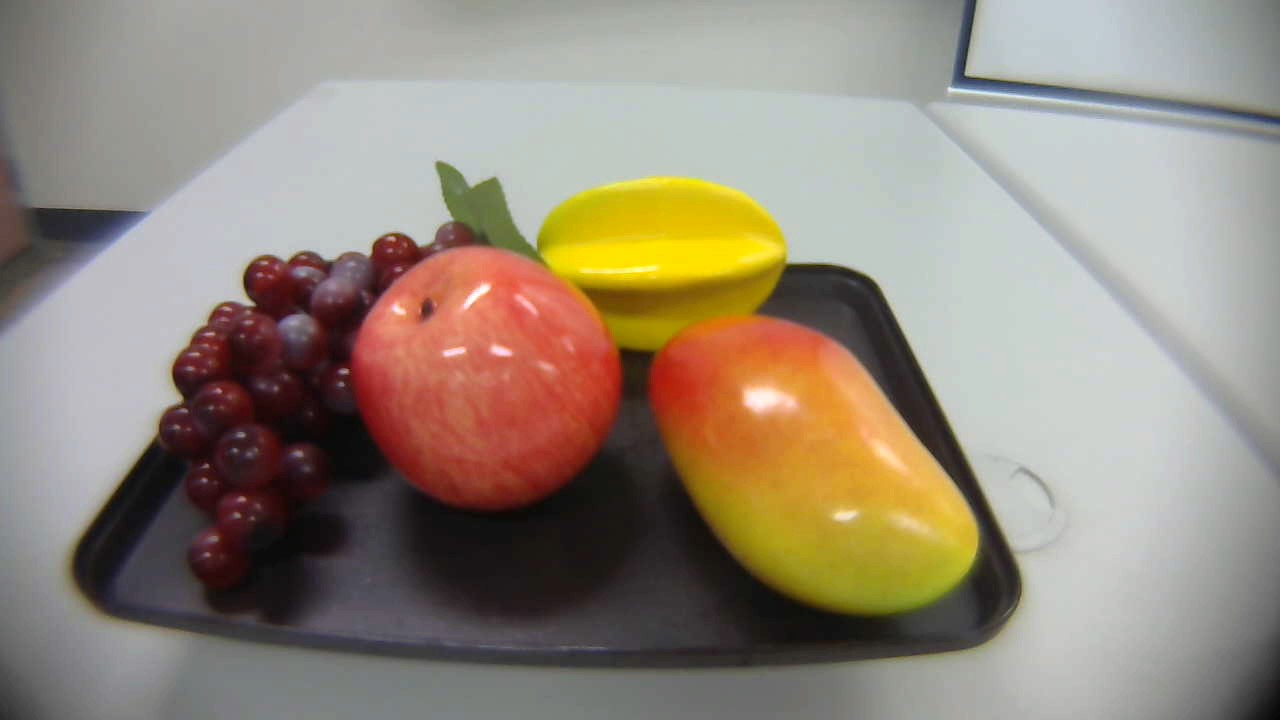grape: (150, 154, 547, 603)
red apple: (353, 246, 627, 519)
red mango: (652, 301, 985, 623)
star fruit: (535, 171, 792, 351)
